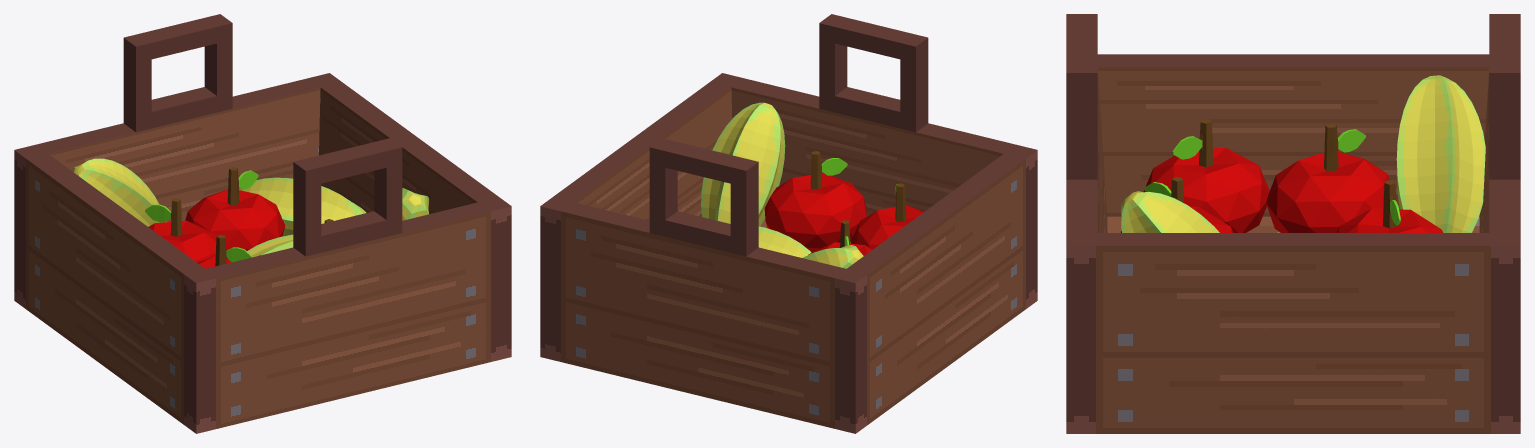
The model's file is CaixaFrutas.fbx.
The picture shows the model from 3 angles, left to right: view 1: azimuth 30°, elevation 25°; view 2: azimuth 150°, elevation 25°; view 3: azimuth 270°, elevation 25°; orthographic projection. The views are drawn at different scales.
Parts seen in each view (by area): view 1: Cube.008; view 2: Cube.008; view 3: Cube.008.
Boxes of the visible parts, <box> form: Cube.008: <box>14,14,511,433</box>; Cube.008: <box>540,14,1037,433</box>; Cube.008: <box>1066,14,1520,433</box>.
Bounding box in the file's own units: 94.05 × 67.33 × 94.05.
5 materials, 2 textured.
